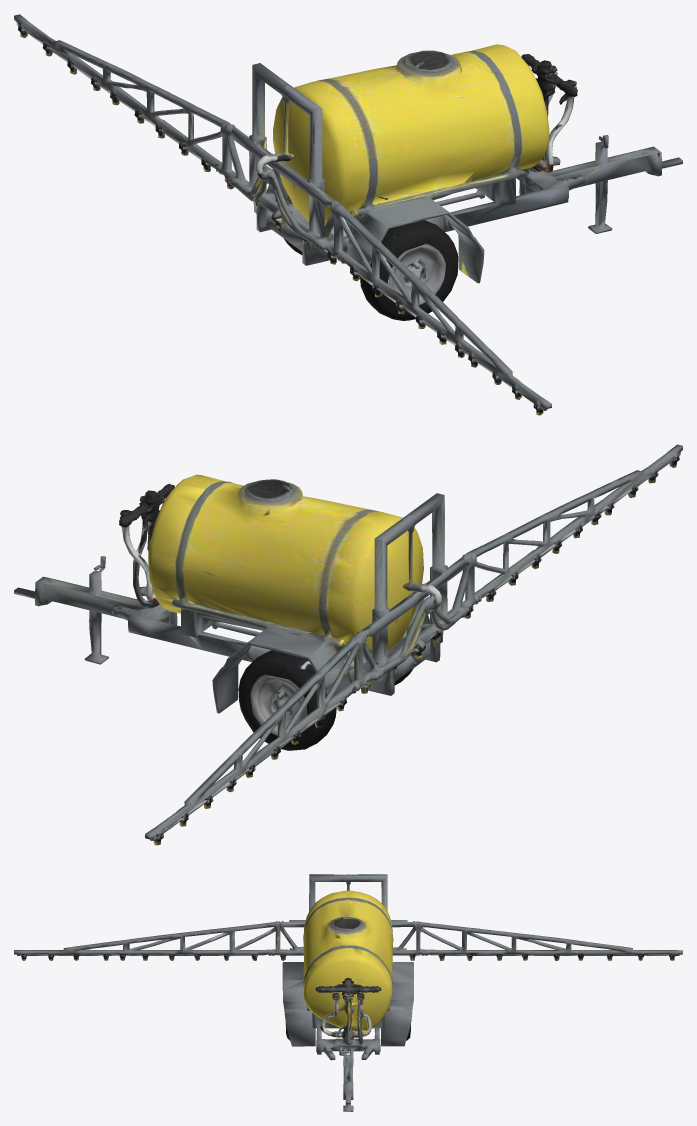
The model's file is sprayer-rig.glb.
3 views of the same model, one above another, from view 1: azimuth 30°, elevation 25°; view 2: azimuth 150°, elevation 25°; view 3: azimuth 270°, elevation 25° (orthographic). The views are drawn at different scales.
Parts seen in each view (by area): view 1: Mesh_0; view 2: Mesh_0; view 3: Mesh_0.
Part boxes in pixels (x1=…): Mesh_0: x1=14, y1=14, x2=682, y2=415; Mesh_0: x1=14, y1=444, x2=682, y2=845; Mesh_0: x1=14, y1=874, x2=682, y2=1111.
Bounding box in the file's own units: 2.77 × 1.38 × 6.
1 material, 1 textured.
